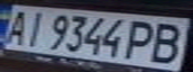3: (63, 12, 87, 54)
4: (100, 16, 133, 58), (81, 14, 109, 56)
9: (42, 11, 72, 52)
A: (0, 7, 33, 46)
B: (142, 20, 193, 65)
I: (18, 8, 51, 47)
P: (121, 17, 166, 62)
